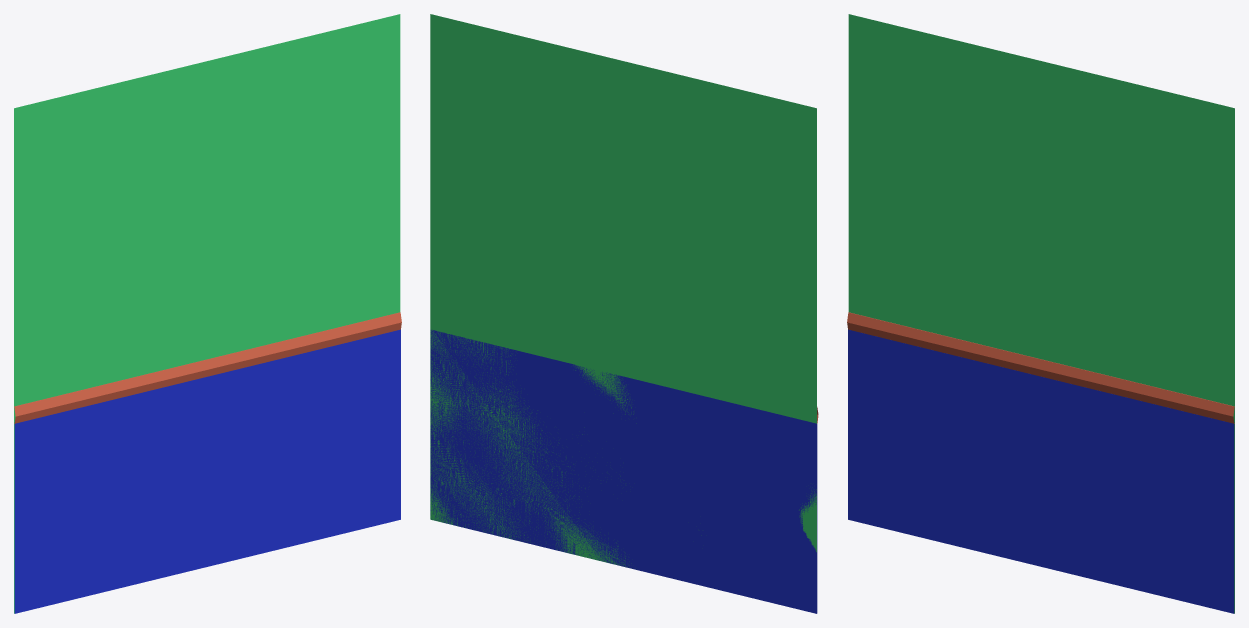
File: Pared 1.fbx
3 renders of one model, left to right at view 1: azimuth 30°, elevation 25°; view 2: azimuth 150°, elevation 25°; view 3: azimuth 330°, elevation 25°, orthographic.
Visible parts, largest first — view 1: wall_01, tiles_02.001, tiles_01; view 2: wall_01, tiles_02.001; view 3: wall_01, tiles_02.001, tiles_01.
Part boxes in pixels (bbox=[...]): wall_01: bbox=[14, 14, 400, 613]; tiles_02.001: bbox=[14, 329, 400, 613]; tiles_01: bbox=[14, 312, 401, 423]; wall_01: bbox=[430, 14, 816, 567]; tiles_02.001: bbox=[430, 330, 817, 613]; wall_01: bbox=[848, 14, 1234, 613]; tiles_02.001: bbox=[848, 329, 1234, 613]; tiles_01: bbox=[847, 312, 1234, 423].
Bounding box in the file's own units: 200 × 250 × 1.33.
